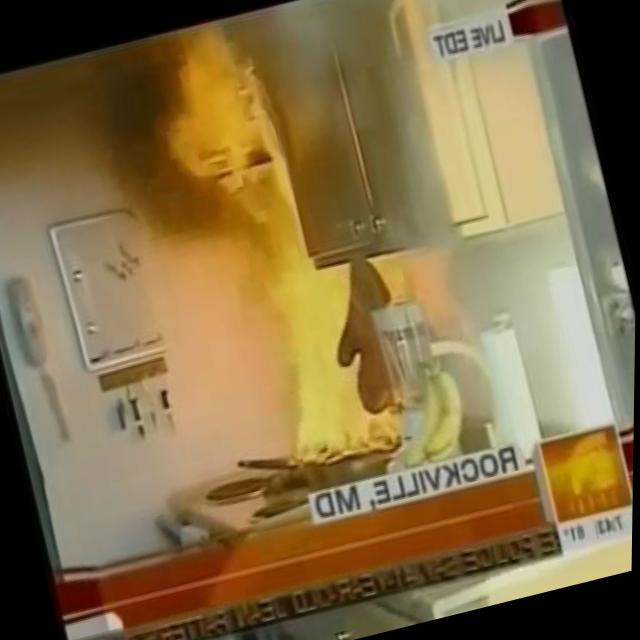fire: (136, 0, 418, 474)
